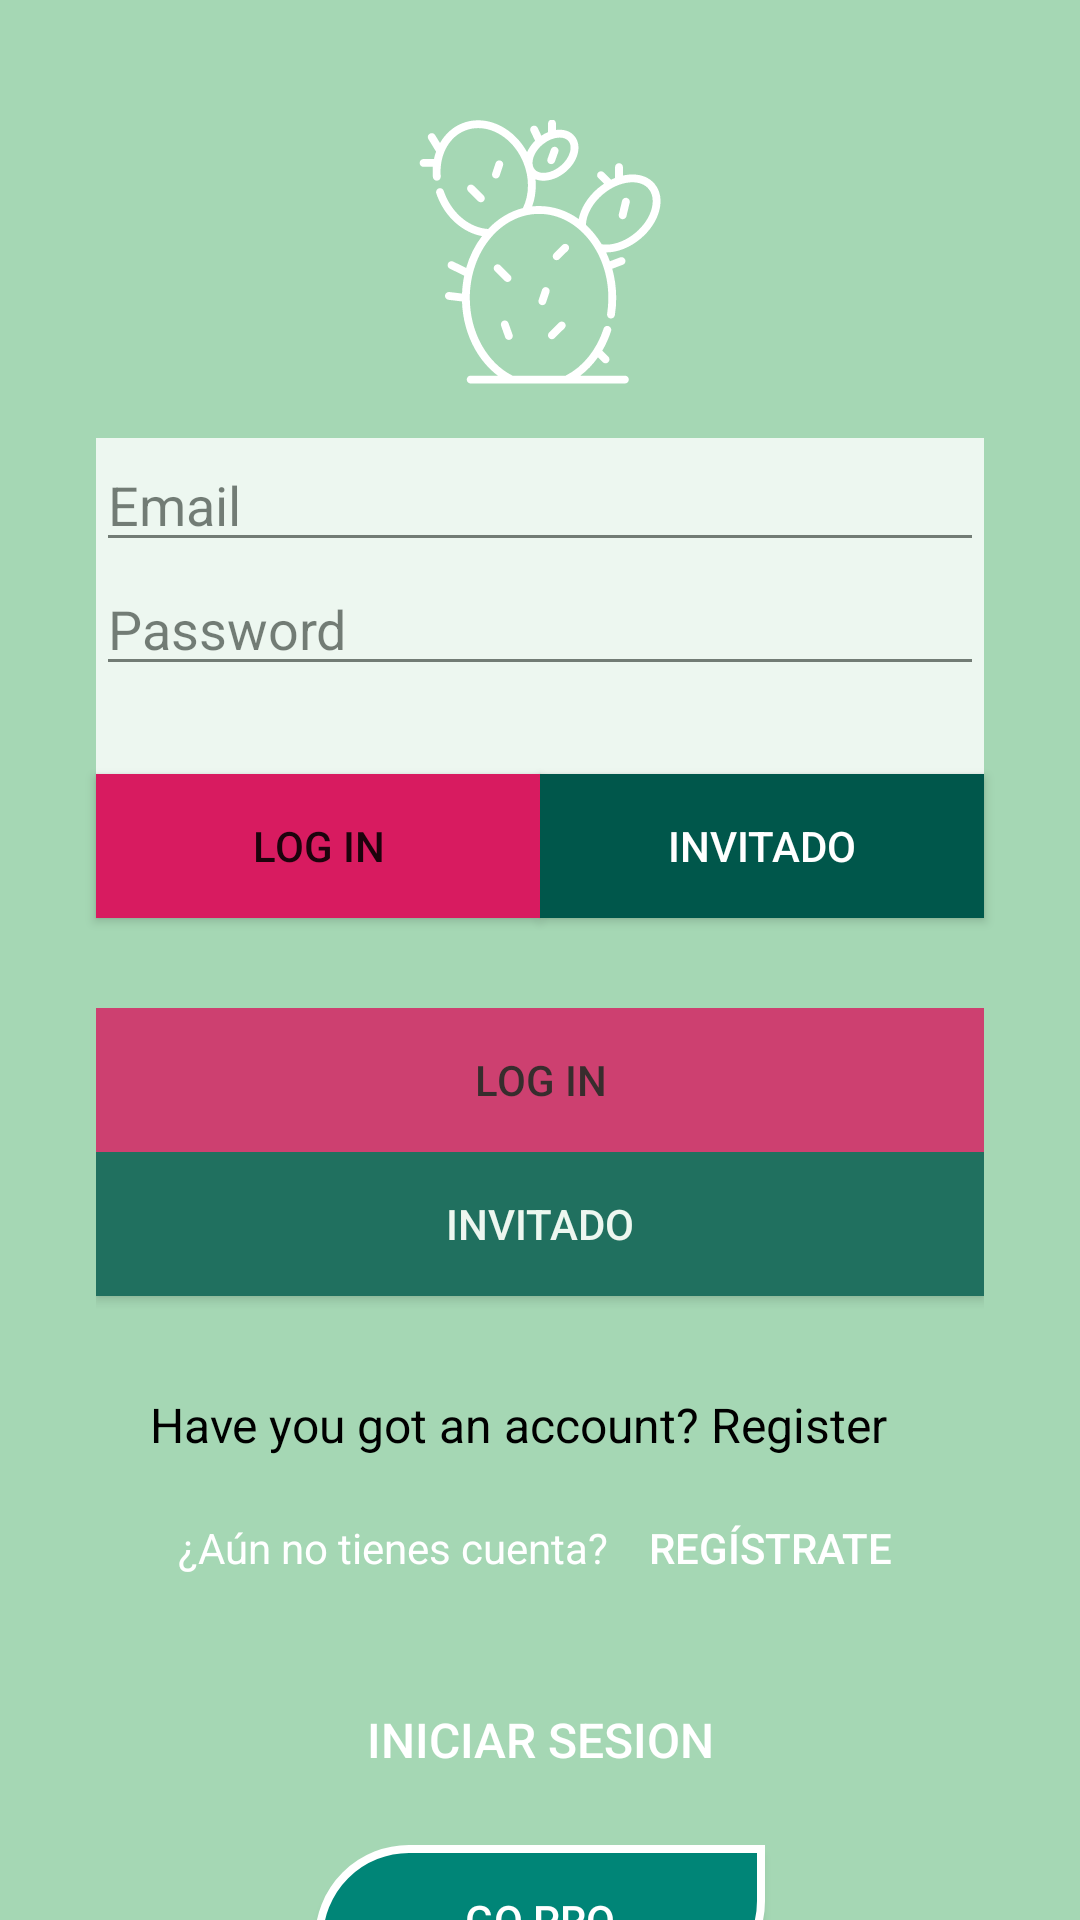

Locate icon controls on the screen. Image size 1080x1920, boxes as box(x1, y1, x2, y2).
cactus: box(420, 120, 661, 384)
